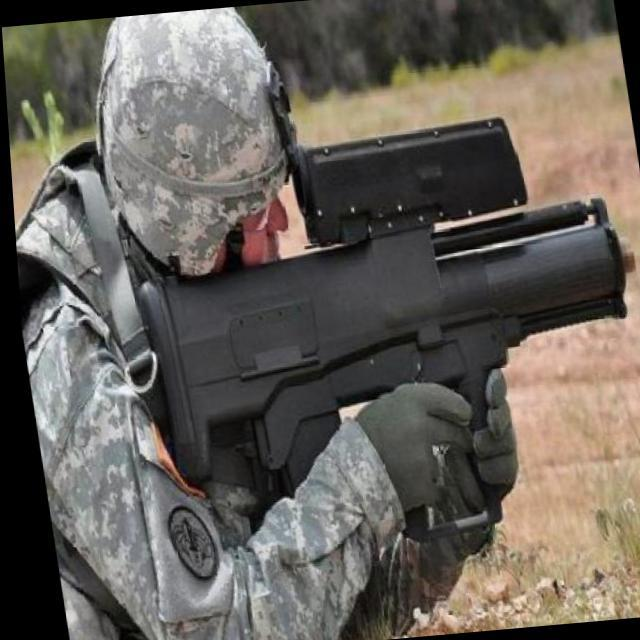weapon: (103, 102, 640, 569)
